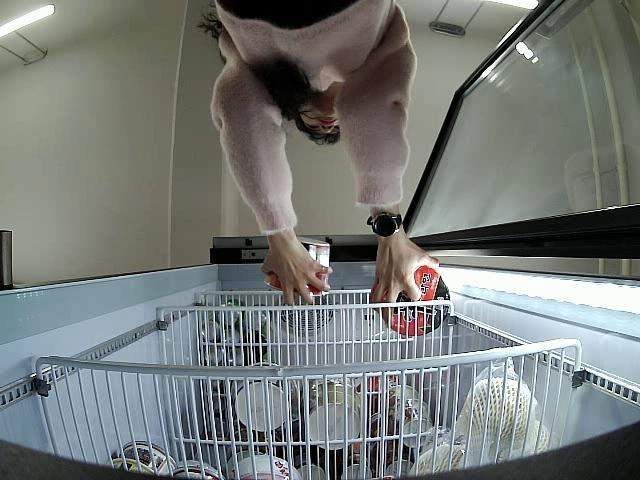01_ShinRamen_L: (374, 266, 452, 336), (262, 235, 332, 296)
